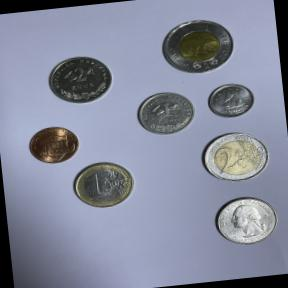coin: (155, 12, 239, 80), (196, 124, 276, 188), (42, 51, 118, 112), (208, 190, 284, 250), (66, 156, 140, 215), (23, 120, 84, 170), (202, 78, 258, 124)
